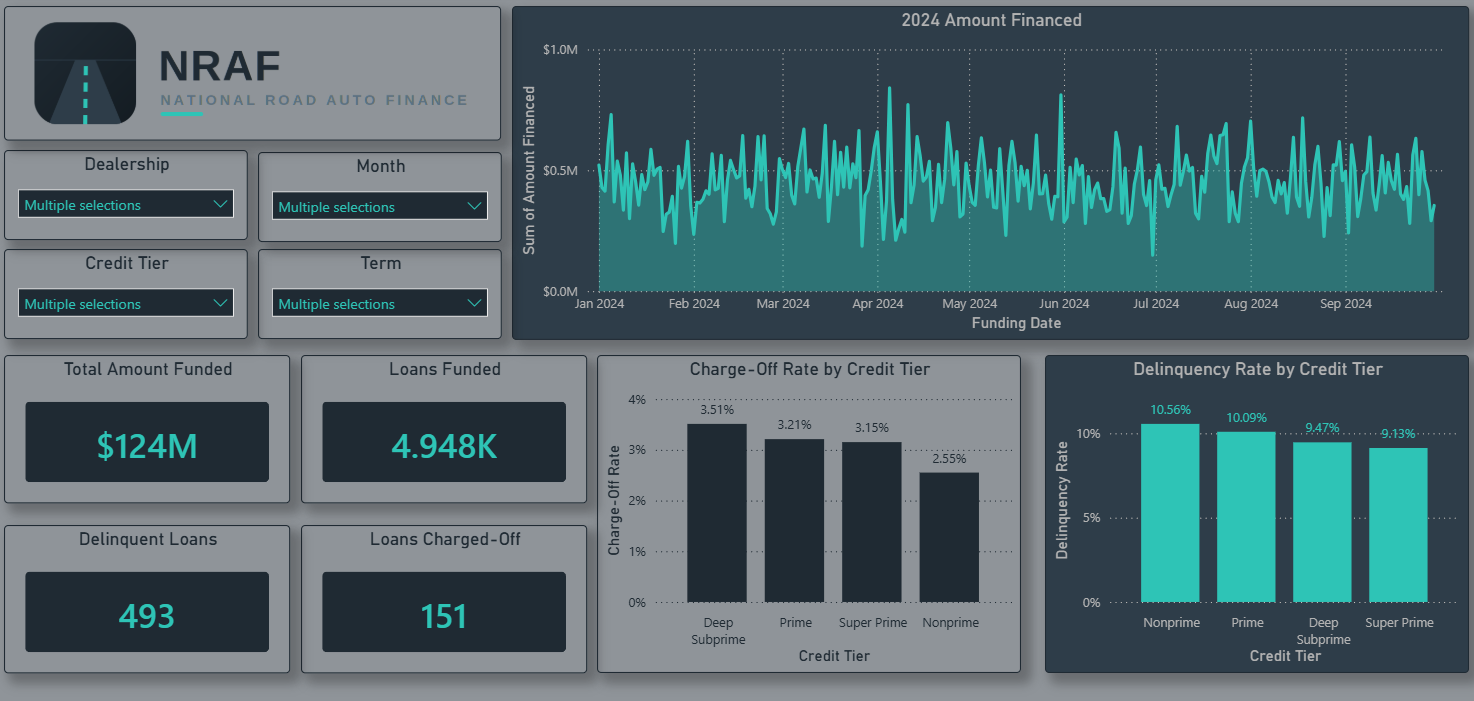

The page's visual inventory and layout, read from the dashboard file:
{"tool":"powerbi","page":{"name":"Page 1","canvas":[1400,680],"ordinal":0},"visuals":[{"type":"areaChart","title":"2024 Amount Financed","fields":{"Category":["Working Loan Data.Funding Date"],"Y":["Sum(Working Loan Data.Amount Financed)"]},"box":[488,10,903,315],"z":0},{"type":"slicer","title":"Dealership","fields":{"Values":["Working Loan Data.Dealership"]},"box":[8.9,146.6,230,85],"z":1000},{"type":"slicer","title":"Month","fields":{"Values":["Working Loan Data.Funding Date.Variation.Date Hierarchy.Month"]},"box":[247.8,147.7,230,85],"z":2000},{"type":"slicer","title":"Credit Tier","fields":{"Values":["Working Loan Data.Credit Tier"]},"box":[8.9,240,230,85],"z":3000},{"type":"slicer","title":"Term","fields":{"Values":["Working Loan Data.Loan Term (Months)"]},"box":[247.8,239.9,230,85],"z":4000},{"type":"cardVisual","title":"Loans Funded","fields":{"Data":["CountNonNull(Working Loan Data.Loan ID)"]},"box":[288.7,339.6,270,140],"z":5000},{"type":"cardVisual","title":"Total Amount Funded","fields":{"Data":["Sum(Working Loan Data.Amount Financed)"]},"box":[8.5,339.6,270,140],"z":6000},{"type":"image","box":[8.9,10,468.9,126.7],"z":7000},{"type":"cardVisual","title":"Loans Charged-Off","fields":{"Data":["Working Loan Data.Loans Charged-Off"]},"box":[288.7,500,270,140],"z":8000},{"type":"columnChart","fields":{"Category":["Working Loan Data.Credit Tier"],"Y":["Working Loan Data.Delinquency Rate"]},"box":[990.6,339.6,400,300],"z":9000},{"type":"columnChart","fields":{"Category":["Working Loan Data.Credit Tier"],"Y":["Working Loan Data.Charge-Off Rate"]},"box":[567.9,339.6,400,300],"z":10000},{"type":"cardVisual","title":"Delinquent Loans","fields":{"Data":["Working Loan Data.Loans Delinquent"]},"box":[8.5,500,270,140],"z":11000}]}

Visuals, with their boxes in screenshot pixels (x1, y1, x2, y2), scaled from the page's 1400x680 canvas onto the 1474x701 screenshot:
"2024 Amount Financed" areaChart: locate(514, 10, 1465, 335)
"Dealership" slicer: locate(9, 151, 252, 239)
"Month" slicer: locate(261, 152, 503, 240)
"Credit Tier" slicer: locate(9, 247, 252, 335)
"Term" slicer: locate(261, 247, 503, 335)
"Loans Funded" cardVisual: locate(304, 350, 588, 494)
"Total Amount Funded" cardVisual: locate(9, 350, 293, 494)
image: locate(9, 10, 503, 141)
"Loans Charged-Off" cardVisual: locate(304, 515, 588, 660)
columnChart - Working Loan Data.Credit Tier x Working Loan Data.Delinquency Rate: locate(1043, 350, 1464, 659)
columnChart - Working Loan Data.Credit Tier x Working Loan Data.Charge-Off Rate: locate(598, 350, 1019, 659)
"Delinquent Loans" cardVisual: locate(9, 515, 293, 660)
